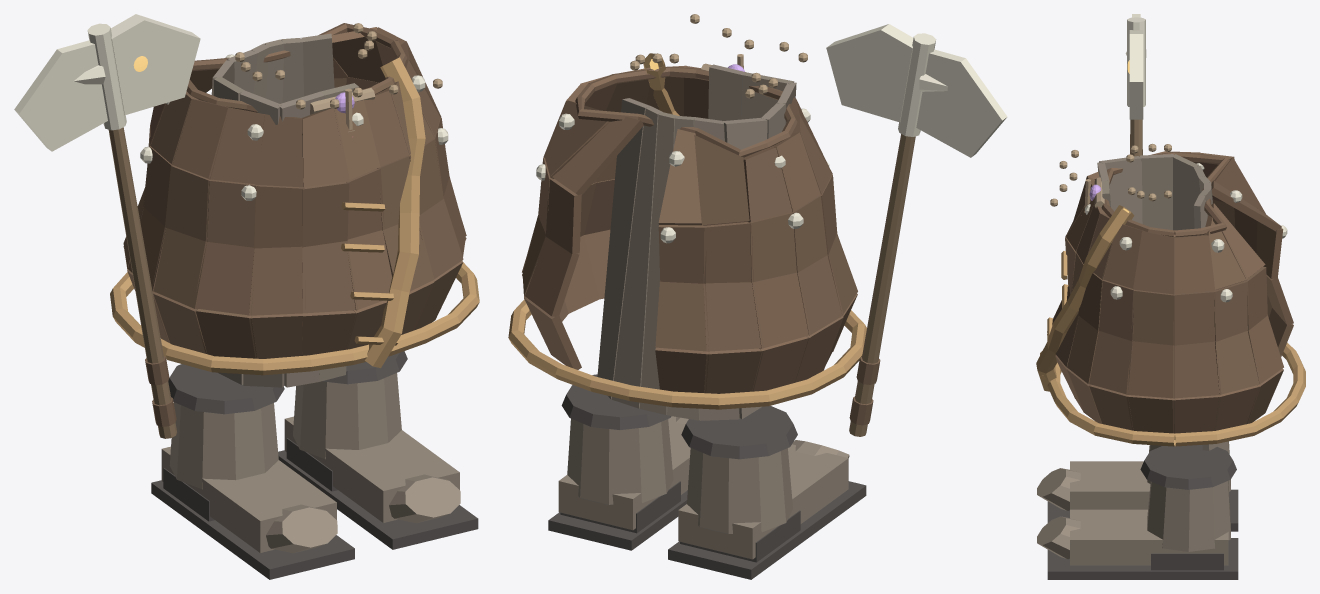
File: barbarian_kit.glb
The picture shows the model from 3 angles, left to right: view 1: azimuth 30°, elevation 25°; view 2: azimuth 150°, elevation 25°; view 3: azimuth 270°, elevation 25°; orthographic projection. The views are drawn at different scales.
Visible parts, largest first — view 1: Armour_Jerkin_leather_barbarian, Acc_BootR_cloth_barbarian, Acc_BootL_cloth_barbarian, Weapon_metal_barbarian, Armour_Jerkin_trim_barbarian, Acc_BootR_dark_barbarian, Acc_Cloak_cloth_barbarian, Acc_BootL_dark_barbarian, Weapon_haft_barbarian, Acc_Amulet_metal_barbarian, Armour_Jerkin_metal_barbarian, Weapon_leather_barbarian; view 2: Armour_Jerkin_leather_barbarian, Acc_Cloak_cloth_barbarian, Weapon_metal_barbarian, Acc_BootR_cloth_barbarian, Acc_BootL_cloth_barbarian, Acc_BootR_dark_barbarian, Armour_Jerkin_trim_barbarian, Acc_BootL_dark_barbarian, Weapon_haft_barbarian, Acc_Amulet_metal_barbarian, Armour_Jerkin_metal_barbarian, Weapon_leather_barbarian; view 3: Armour_Jerkin_leather_barbarian, Acc_BootL_cloth_barbarian, Armour_Jerkin_trim_barbarian, Acc_BootL_dark_barbarian, Acc_Cloak_cloth_barbarian, Acc_BootR_cloth_barbarian, Weapon_metal_barbarian, Acc_Amulet_metal_barbarian, Armour_Jerkin_metal_barbarian, Acc_BootR_dark_barbarian, Weapon_haft_barbarian.
Boxes of the visible parts, left/top/right/bottom form: Armour_Jerkin_leather_barbarian: left=123, top=23, right=466, bottom=358; Acc_BootR_cloth_barbarian: left=161, top=402, right=337, bottom=553; Acc_BootL_cloth_barbarian: left=284, top=373, right=460, bottom=523; Weapon_metal_barbarian: left=14, top=14, right=200, bottom=151; Armour_Jerkin_trim_barbarian: left=110, top=57, right=479, bottom=375; Acc_BootR_dark_barbarian: left=151, top=364, right=354, bottom=579; Acc_Cloak_cloth_barbarian: left=211, top=33, right=358, bottom=387; Acc_BootL_dark_barbarian: left=278, top=351, right=478, bottom=549; Weapon_haft_barbarian: left=108, top=127, right=176, bottom=438; Acc_Amulet_metal_barbarian: left=235, top=23, right=442, bottom=132; Armour_Jerkin_metal_barbarian: left=140, top=54, right=448, bottom=200; Weapon_leather_barbarian: left=145, top=356, right=176, bottom=426; Armour_Jerkin_leather_barbarian: left=522, top=65, right=857, bottom=393; Acc_Cloak_cloth_barbarian: left=597, top=64, right=796, bottom=420; Weapon_metal_barbarian: left=826, top=24, right=1007, bottom=157; Acc_BootR_cloth_barbarian: left=678, top=440, right=849, bottom=559; Acc_BootL_cloth_barbarian: left=558, top=416, right=690, bottom=530; Acc_BootR_dark_barbarian: left=668, top=406, right=866, bottom=579; Armour_Jerkin_trim_barbarian: left=508, top=53, right=866, bottom=409; Acc_BootL_dark_barbarian: left=548, top=374, right=687, bottom=550; Weapon_haft_barbarian: left=849, top=134, right=915, bottom=436; Acc_Amulet_metal_barbarian: left=630, top=14, right=807, bottom=98; Armour_Jerkin_metal_barbarian: left=536, top=108, right=829, bottom=243; Weapon_leather_barbarian: left=849, top=357, right=880, bottom=425; Armour_Jerkin_leather_barbarian: left=1047, top=151, right=1293, bottom=433; Acc_BootL_cloth_barbarian: left=1037, top=480, right=1230, bottom=565; Armour_Jerkin_trim_barbarian: left=1036, top=205, right=1305, bottom=446; Acc_BootL_dark_barbarian: left=1047, top=445, right=1238, bottom=579; Acc_Cloak_cloth_barbarian: left=1097, top=154, right=1225, bottom=450; Acc_BootR_cloth_barbarian: left=1037, top=441, right=1230, bottom=510; Weapon_metal_barbarian: left=1125, top=14, right=1146, bottom=119; Acc_Amulet_metal_barbarian: left=1050, top=143, right=1171, bottom=212; Armour_Jerkin_metal_barbarian: left=1085, top=163, right=1287, bottom=302; Acc_BootR_dark_barbarian: left=1047, top=489, right=1238, bottom=531; Weapon_haft_barbarian: left=1130, top=119, right=1142, bottom=156.
Size of the model in its own units: 1.29 by 1.43 by 0.8062.
